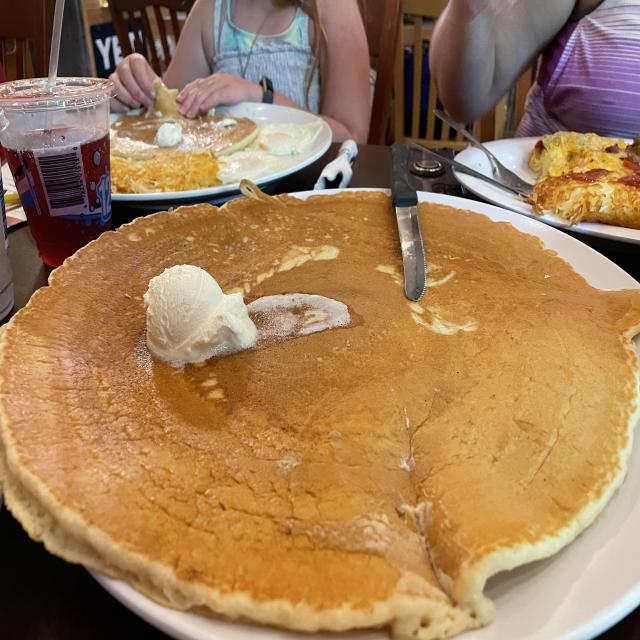Omelette: (525, 136, 640, 230), (103, 154, 235, 187)
Pancakes: (5, 186, 640, 640), (108, 85, 264, 158)
